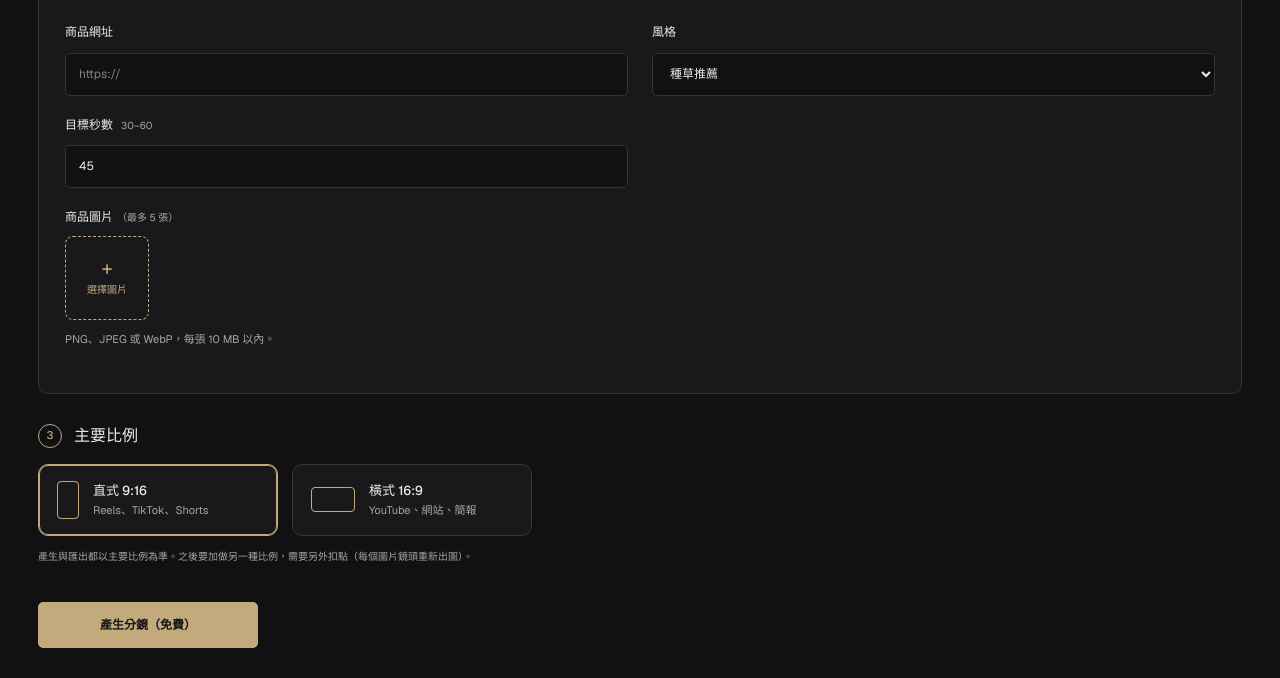
Test case: studio new › renders the form from input_schema and enforces x-require-one-of
(page scrolled)
Check: the dropdown labelled "風格" shows "種草推薦", box top-left (652, 53), bottom-right (1215, 96)
Check: the number field labelled "目標秒數 30–60" holds "45", box top-left (65, 145), bottom-right (628, 188)
Click the button "產生分鏡（免費）": [148, 624] box top-left (38, 602), bottom-right (258, 648)
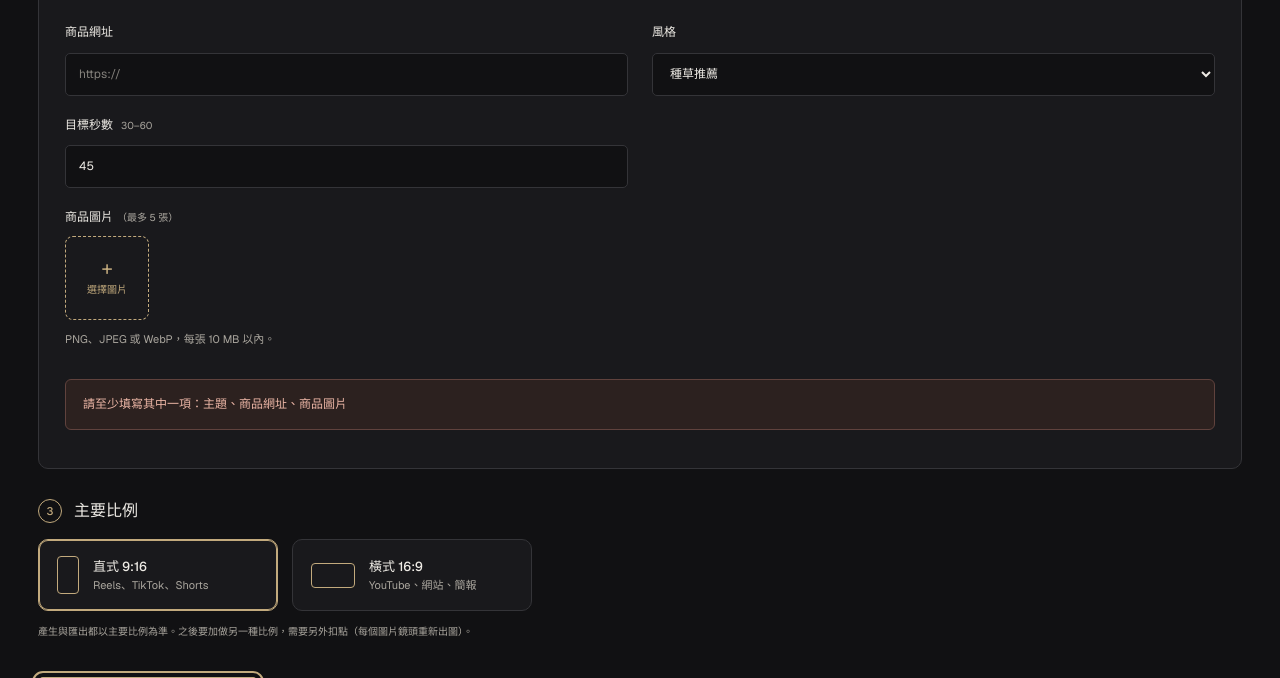
Check: the message reads "請至少填寫其中一項：主題、商品網址、商品圖片", box top-left (83, 396), bottom-right (347, 412)
